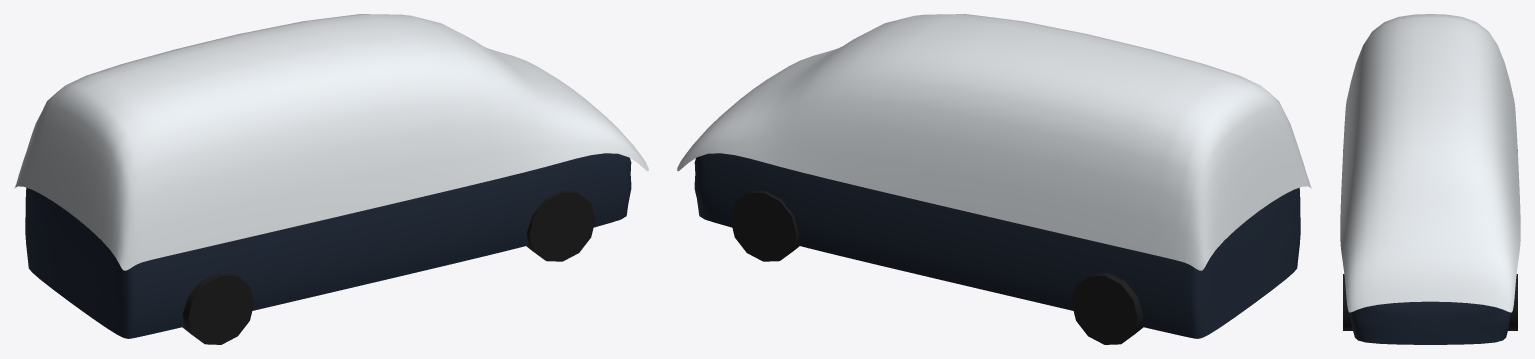
The model's file is SM_car2_D.glb.
3 views of the same model, side by side, from view 1: azimuth 30°, elevation 25°; view 2: azimuth 150°, elevation 25°; view 3: azimuth 270°, elevation 25° (orthographic). The views are drawn at different scales.
Parts seen in each view (by area): view 1: SM_car2_D_snow, SM_car2_D_body, SM_car2_D_wheels; view 2: SM_car2_D_snow, SM_car2_D_body, SM_car2_D_wheels; view 3: SM_car2_D_snow, SM_car2_D_body, SM_car2_D_wheels.
Part boxes in pixels (x1,y1,x2,y2): SM_car2_D_snow: (14,14,648,270); SM_car2_D_body: (25,153,631,338); SM_car2_D_wheels: (182,191,595,344); SM_car2_D_snow: (677,14,1311,270); SM_car2_D_body: (694,153,1300,338); SM_car2_D_wheels: (730,191,1143,344); SM_car2_D_snow: (1340,14,1520,312); SM_car2_D_body: (1349,301,1511,344); SM_car2_D_wheels: (1343,150,1517,330).
Bounding box in the file's own units: 4.97 × 2.06 × 1.96.
